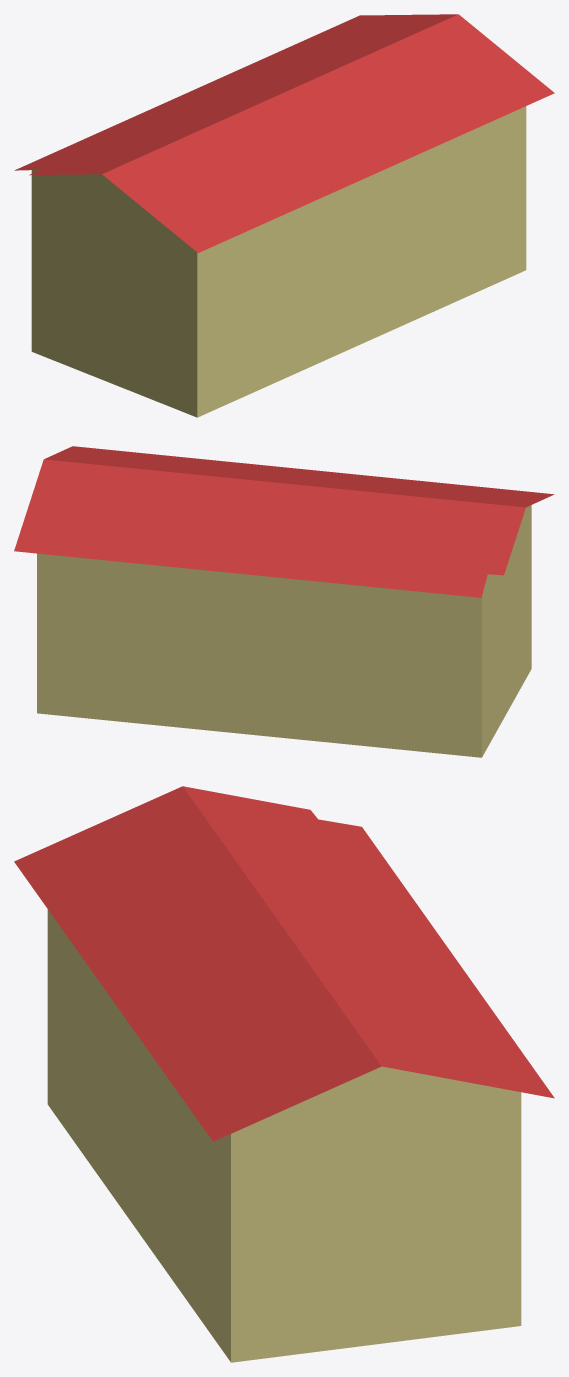
3 views of the same model, one above another, from view 1: azimuth 30°, elevation 25°; view 2: azimuth 150°, elevation 25°; view 3: azimuth 270°, elevation 25° (orthographic). The views are drawn at different scales.
Bounding box in the file's own units: 20.96 × 15.07 × 8.88.
